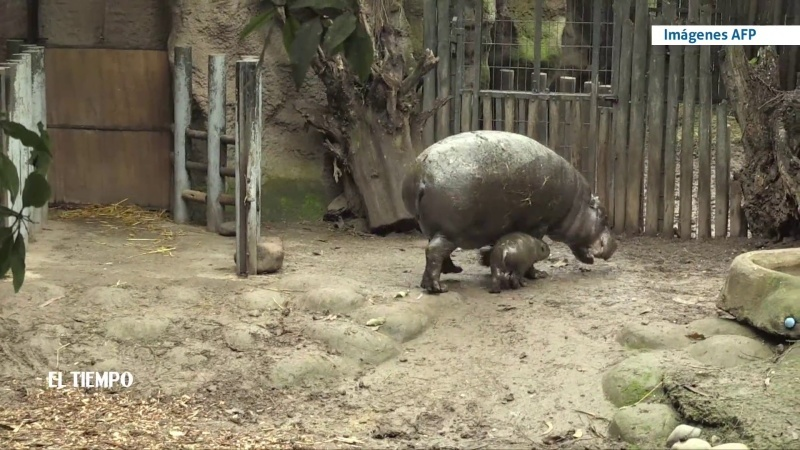hipopotamo: (401, 127, 631, 311), (467, 218, 570, 310)
